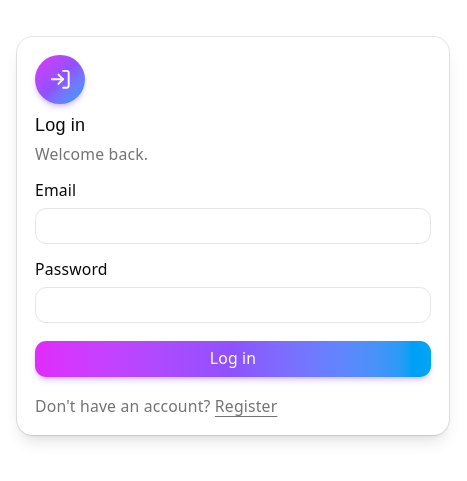
Scenario: LoginPage › shows the mutation's error message when login fails
The width and height of the screenshot is (467, 481).
Type "person@example.com" into the field labelled "Email". click: (233, 226)
box: [35,208,431,244]
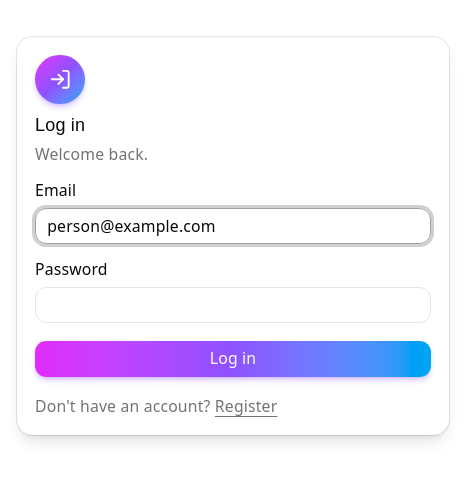
Type "wrong-password" into the password field labelled "Password". click: (233, 305)
box: [35,287,431,323]
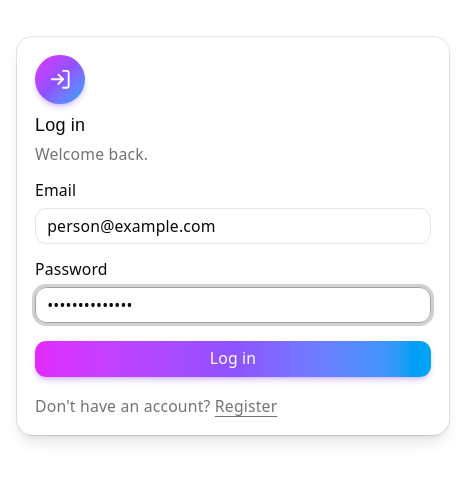
Click the button "Log in". click: (233, 359)
box: [35,341,431,377]
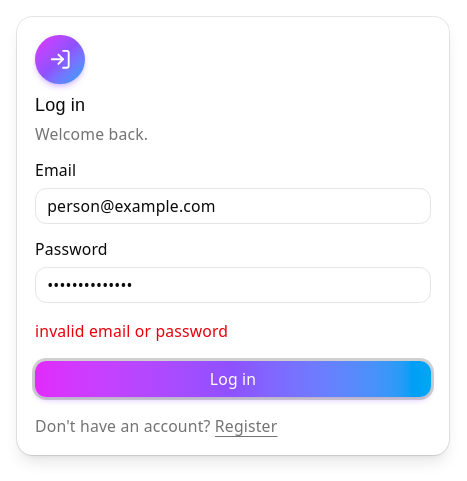
Now the text "invalid email or password" is shown, box [35,320,228,342]
